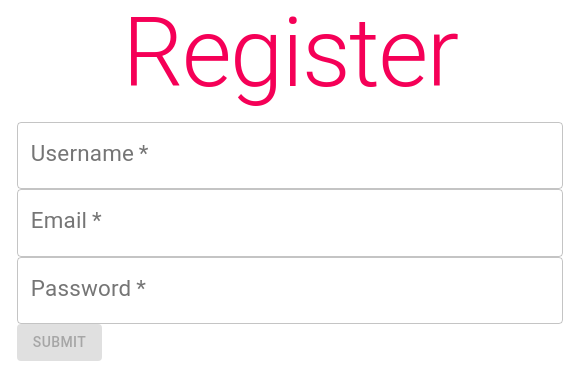
Register › Button should be disabled when username is not valid
The image size is (580, 381).
Type "email@gmail.com" into the field labelled "Email *" at (290, 223), box [17,189,563,257]
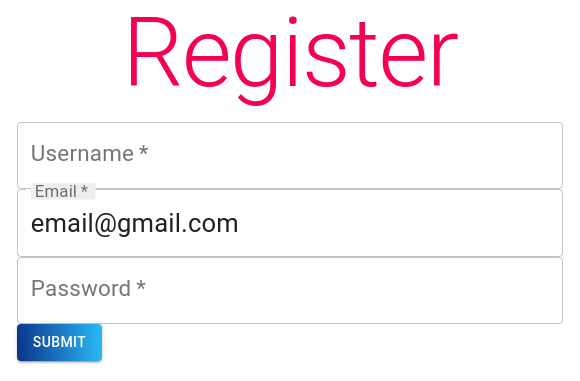
Type "sdafFDAS!@#12" into the password field labelled "Password *" at (290, 290), box [17,257,563,324]
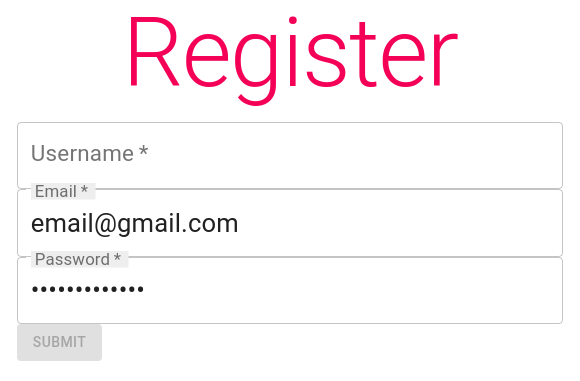
Now the button "Submit" is disabled, box [17,324,102,360]
